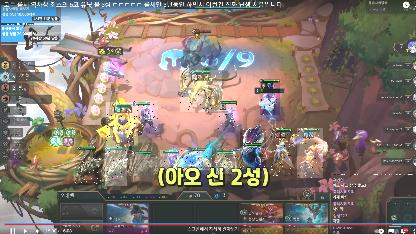1_terra: (131, 150, 157, 182), (216, 152, 236, 174)
1_yasuo: (218, 102, 238, 130), (160, 150, 180, 170)
2_aoshin: (180, 148, 212, 170)
2_aurelionsol: (240, 129, 266, 171)
2_idas: (180, 70, 222, 112)
2_terra: (75, 147, 103, 185), (105, 146, 127, 186)
2_yasuo: (130, 101, 158, 133), (260, 79, 280, 115)
3_bard: (106, 102, 138, 146)
3_joy: (297, 128, 323, 178)
3_soraka: (271, 128, 293, 176)
